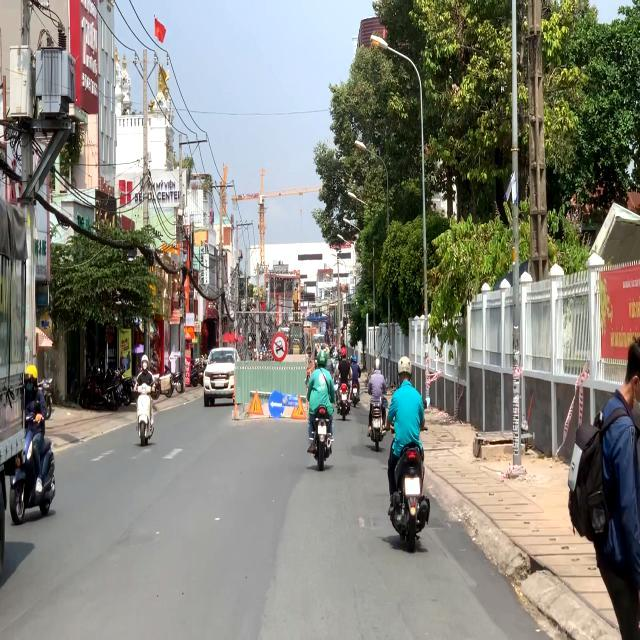Cac xe chi duoc re trai: (268, 391, 285, 419)
Cam xe oto: (271, 332, 288, 362)
